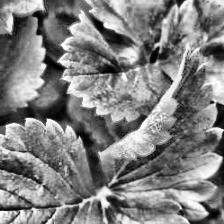Powdery Mildew Leaf: (97, 43, 224, 222)
